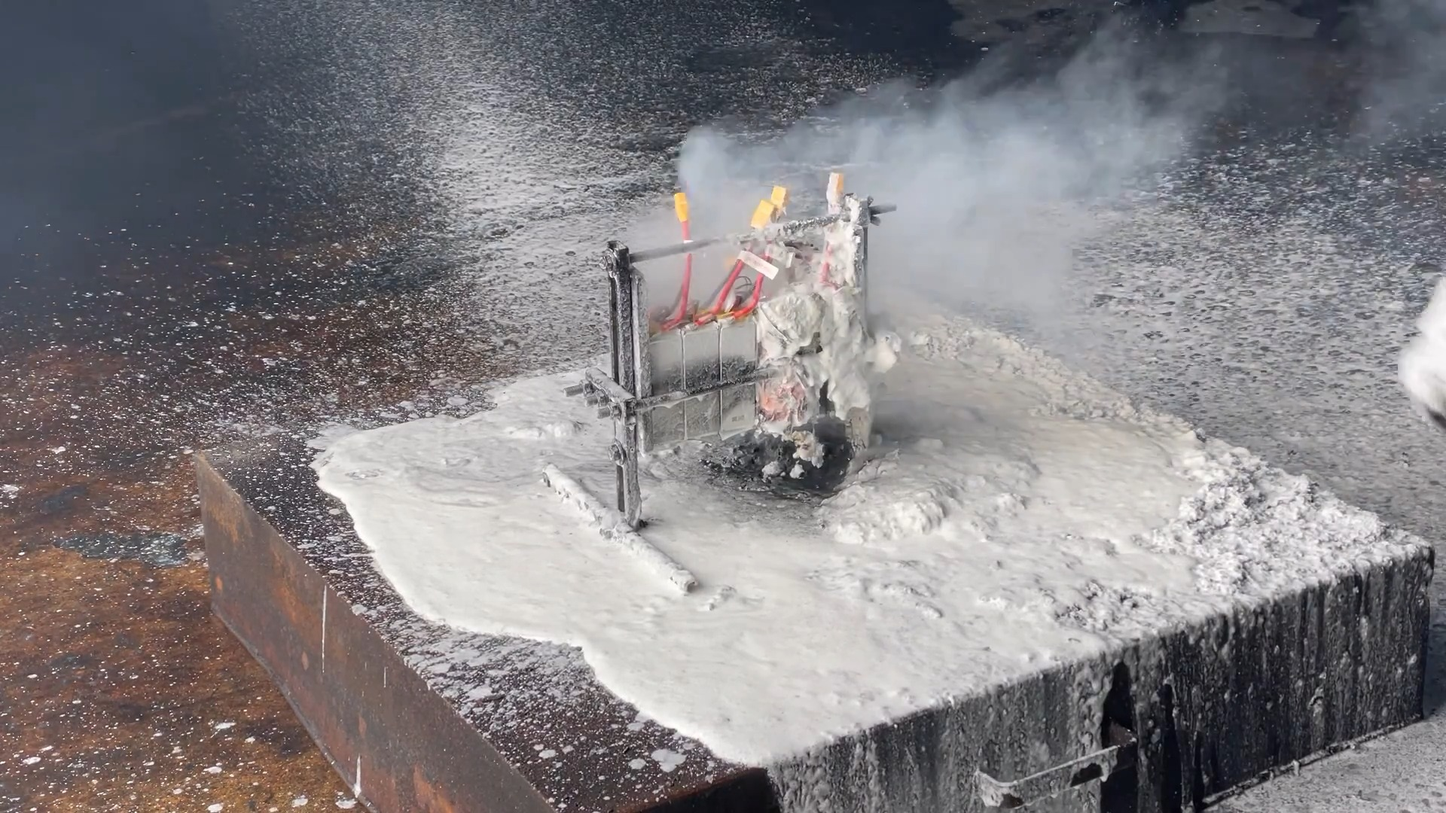smoke: (639, 2, 1280, 350)
